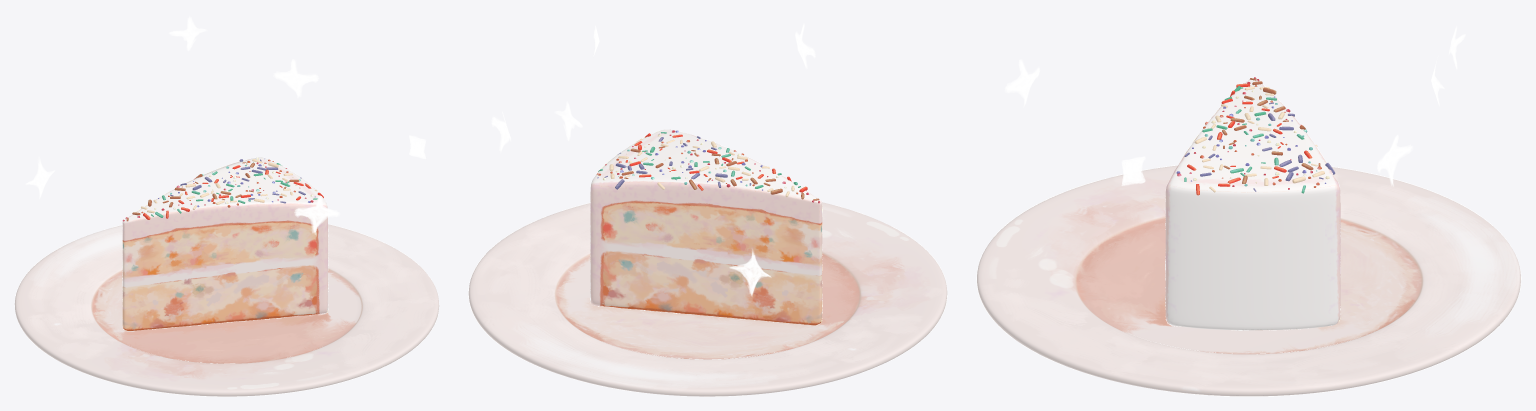
The picture shows the model from 3 angles, left to right: view 1: azimuth 30°, elevation 25°; view 2: azimuth 150°, elevation 25°; view 3: azimuth 270°, elevation 25°; orthographic projection. The views are drawn at different scales.
Parts seen in each view (by area): view 1: Plate, Cake, Sparklies.005, Sparklies.004, Sparklies.003; view 2: Plate, Cake, Sparklies.001; view 3: Plate, Cake, Sparklies.004, Sparklies.005, Sparklies.002.
Boxes of the visible parts, x1,y1,x2,y2 form: Plate: (14,224,439,396); Cake: (122,157,328,330); Sparklies.005: (294,196,339,234); Sparklies.004: (273,59,318,97); Sparklies.003: (169,16,207,50); Plate: (468,202,947,396); Cake: (590,129,822,325); Sparklies.001: (729,249,771,296); Plate: (976,165,1521,396); Cake: (1165,77,1340,330); Sparklies.004: (1377,135,1412,186); Sparklies.005: (1004,59,1039,107); Sparklies.002: (1121,156,1145,185).
Size of the model in its own units: 0.701 by 0.415 by 0.701.
15 materials, 15 textured.
